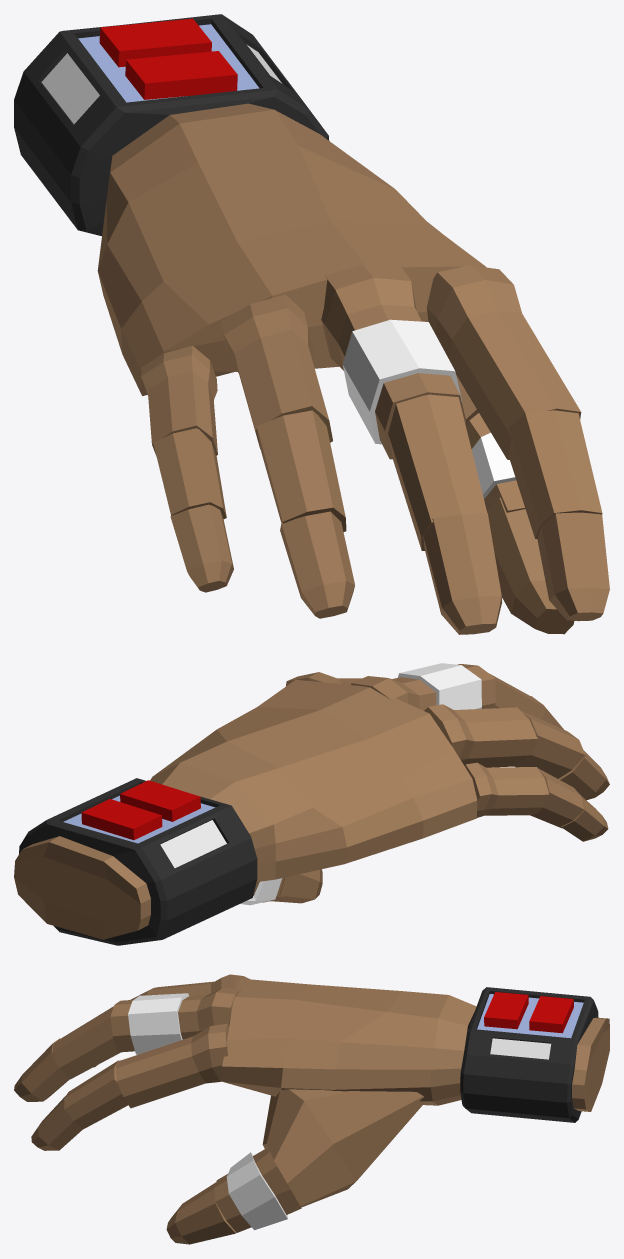
The model's file is Player 01 HandR 04.fbx.
3 renders of one model, top to bottom at view 1: azimuth 30°, elevation 25°; view 2: azimuth 150°, elevation 25°; view 3: azimuth 270°, elevation 25°, orthographic. The views are drawn at different scales.
Visible parts, largest first — view 1: HandRPalm, HandRMid1, HandRInd1, HandRMid2, HandRRing1, HandRInd2, HandRMid3, HandRRing2, HandRInd3, HandRPink1, HandRRing3, HandRThumb3 (+5 smaller); view 2: HandRPalm, HandRRing1, HandRMid1, HandRPink1, HandRRing2, HandRButton2, HandRButton1, HandRPink2, HandRRing3, HandRThumb3, HandRMid2, HandRPink3 (+2 smaller); view 3: HandRPalm, HandRThumb1, HandRMid1, HandRInd1, HandRThumb2, HandRMid2, HandRInd2, HandRThumb3, HandRMid3, HandRInd3, HandRButton1, HandRButton2 (+1 smaller).
Part boxes in pixels (left/top/right/bottom): HandRPalm: left=14, top=14, right=486, bottom=395; HandRMid1: left=321, top=264, right=466, bottom=459; HandRInd1: left=426, top=265, right=581, bottom=459; HandRMid2: left=388, top=394, right=487, bottom=550; HandRRing1: left=220, top=294, right=332, bottom=448; HandRInd2: left=508, top=410, right=602, bottom=538; HandRMid3: left=423, top=513, right=502, bottom=634; HandRRing2: left=257, top=410, right=346, bottom=531; HandRInd3: left=537, top=512, right=609, bottom=621; HandRPink1: left=141, top=345, right=217, bottom=455; HandRRing3: left=280, top=511, right=354, bottom=618; HandRThumb3: left=487, top=497, right=574, bottom=634; HandRPalm: left=14, top=679, right=477, bottom=945; HandRRing1: left=424, top=704, right=537, bottom=767; HandRMid1: left=351, top=663, right=495, bottom=710; HandRPink1: left=464, top=762, right=549, bottom=817; HandRRing2: left=511, top=710, right=585, bottom=778; HandRButton2: left=81, top=799, right=162, bottom=840; HandRButton1: left=120, top=780, right=200, bottom=821; HandRPink2: left=530, top=768, right=584, bottom=828; HandRRing3: left=558, top=750, right=609, bottom=800; HandRThumb3: left=270, top=869, right=322, bottom=903; HandRMid2: left=489, top=673, right=545, bottom=719; HandRPink3: left=561, top=796, right=608, bottom=841; HandRPalm: left=221, top=978, right=609, bottom=1122; HandRThumb1: left=262, top=1089, right=424, bottom=1206; HandRMid1: left=110, top=988, right=241, bottom=1054; HandRInd1: left=115, top=1023, right=228, bottom=1108; HandRThumb2: left=214, top=1148, right=301, bottom=1232; HandRMid2: left=51, top=1006, right=120, bottom=1079; HandRInd2: left=64, top=1060, right=128, bottom=1129; HandRThumb3: left=166, top=1182, right=236, bottom=1244; HandRMid3: left=14, top=1038, right=69, bottom=1101; HandRInd3: left=31, top=1096, right=82, bottom=1150; HandRButton1: left=484, top=992, right=528, bottom=1029; HandRButton2: left=529, top=996, right=573, bottom=1033.
Size of the model in its own units: 12.43 by 9.49 by 24.03.
